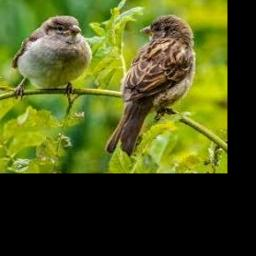Sparrow: (105, 14, 195, 156), (10, 16, 92, 100)
